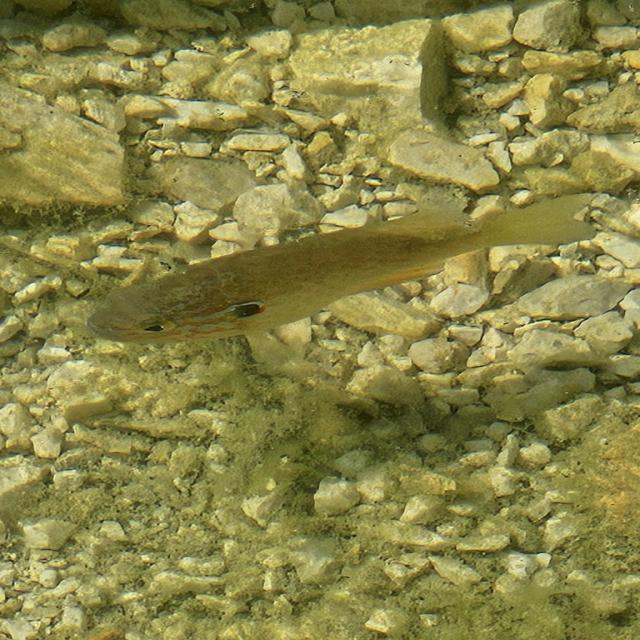Gunes Levregi: (83, 188, 614, 347)
